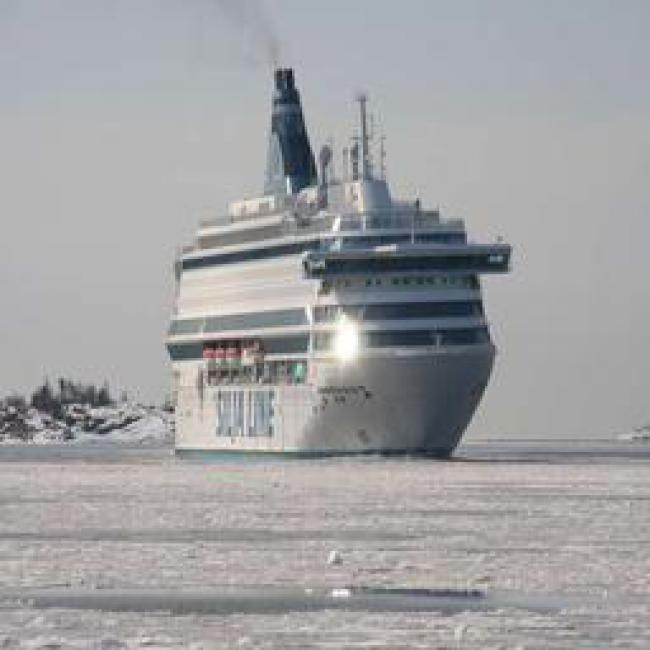Ship: (174, 164, 524, 449)
